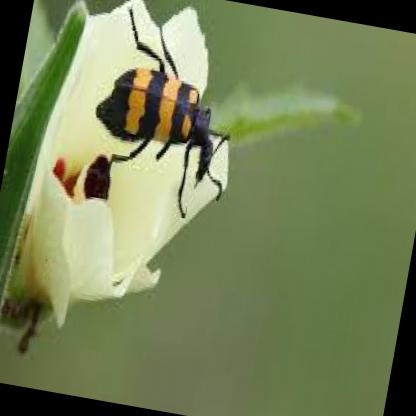blister beetle: (93, 5, 214, 202)
